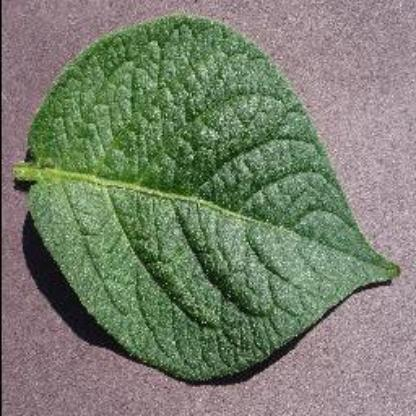Healthy-plant: (17, 15, 403, 397)
